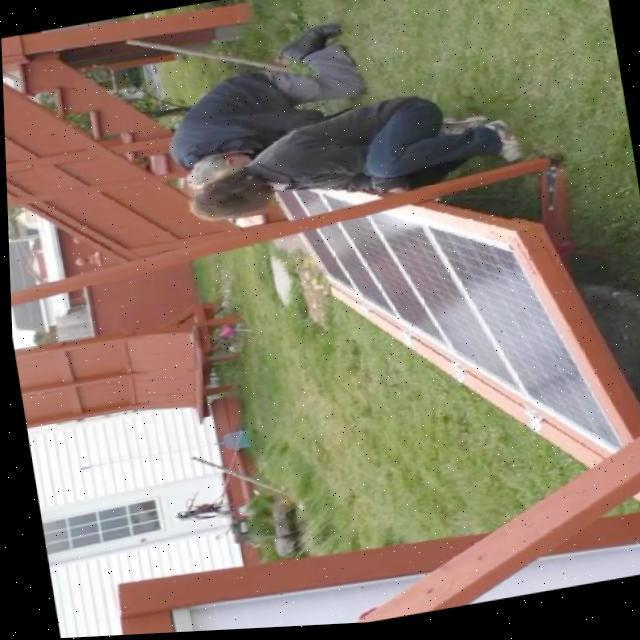Normal Solar Panel: (268, 144, 618, 511)
